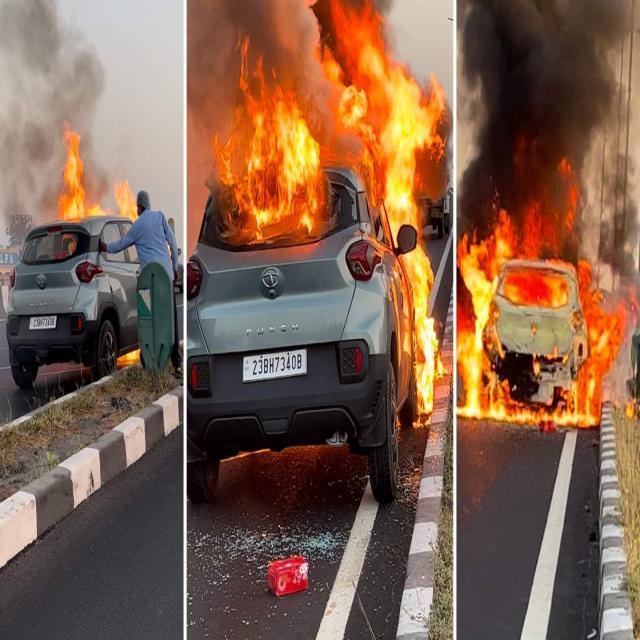Fire: (346, 31, 432, 210), (228, 109, 320, 238), (459, 234, 506, 422), (571, 270, 625, 430), (406, 246, 448, 438), (60, 128, 90, 224), (112, 176, 138, 222)
Smoke: (4, 7, 54, 216)
